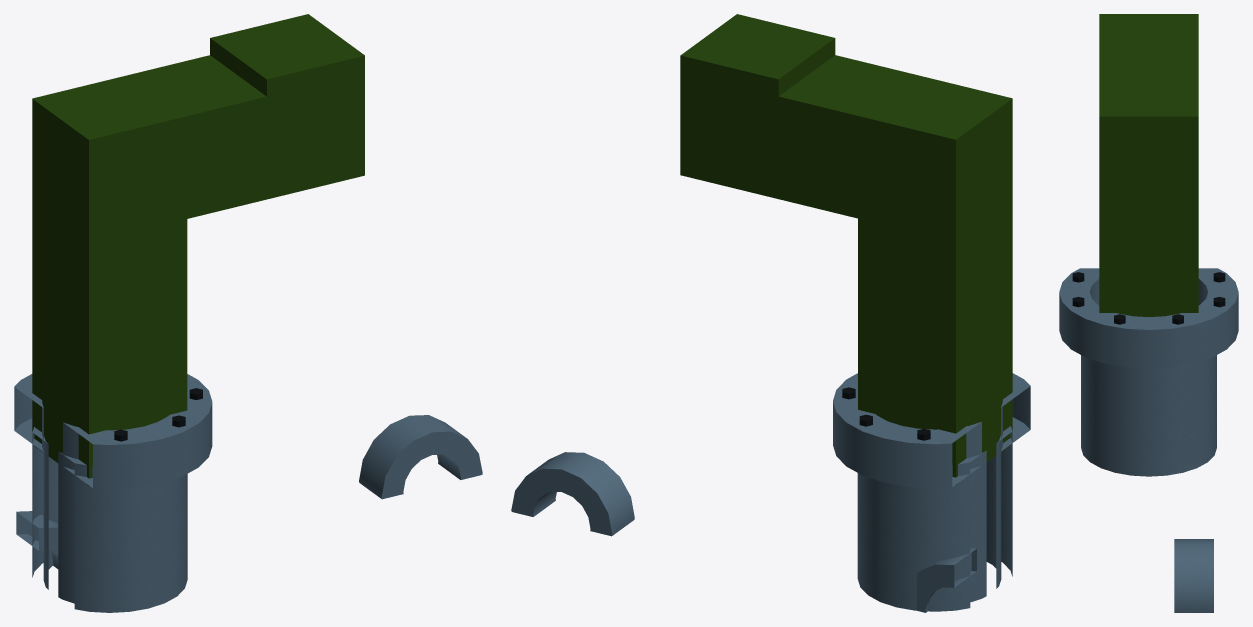
File: cell_54.obj
The picture shows the model from 3 angles, left to right: view 1: azimuth 30°, elevation 25°; view 2: azimuth 150°, elevation 25°; view 3: azimuth 270°, elevation 25°; orthographic projection. The views are drawn at different scales.
Parts seen in each view (by area): view 1: cell_54; view 2: cell_54; view 3: cell_54.
Part boxes in pixels (box(x1,y1,x2,y2)): cell_54: box(14, 14, 482, 612); cell_54: box(511, 14, 1030, 612); cell_54: box(1059, 14, 1238, 612).
Bounding box in the file's own units: 0.948 × 1 × 0.3802.
